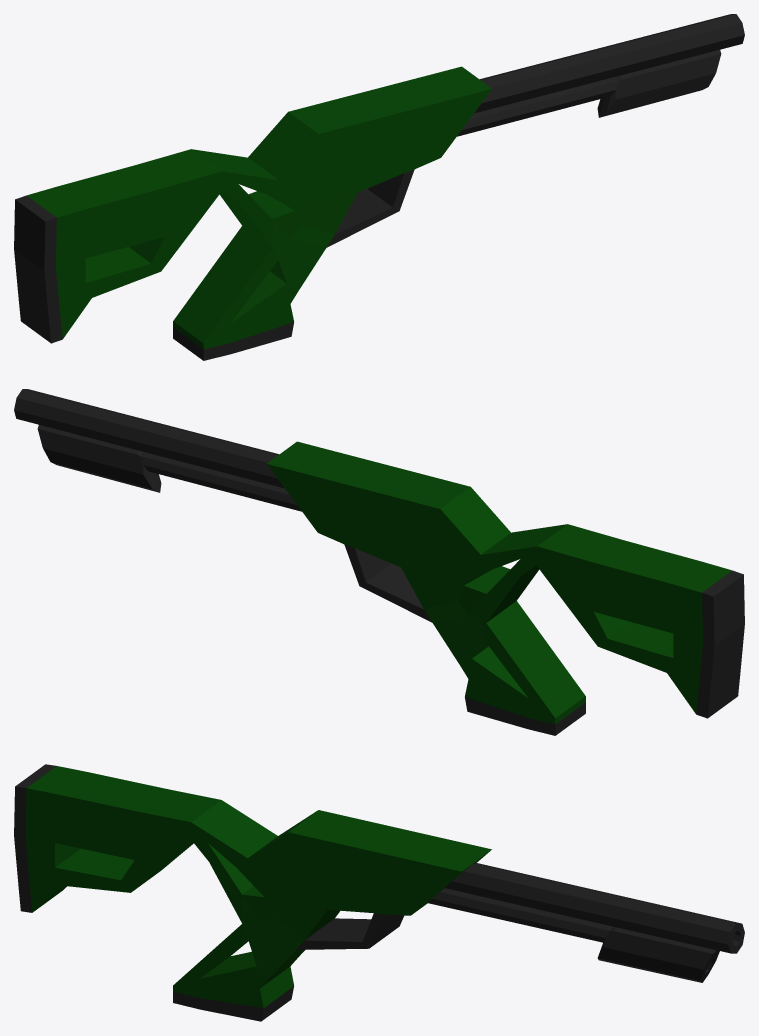
File: Blaster10.fbx
3 views of the same model, one above another, from view 1: azimuth 30°, elevation 25°; view 2: azimuth 150°, elevation 25°; view 3: azimuth 330°, elevation 25° (orthographic).
Visible parts, largest first — view 1: pCube19, pPipe16, pPipe15; view 2: pCube19, pPipe16, pPipe15; view 3: pCube19, pPipe16, pPipe15.
Part boxes in pixels (left/top/right/bottom): pCube19: left=14, top=66, right=491, bottom=360; pPipe16: left=474, top=14, right=744, bottom=113; pPipe15: left=457, top=50, right=721, bottom=136; pCube19: left=267, top=441, right=744, bottom=735; pPipe16: left=14, top=389, right=284, bottom=488; pPipe15: left=37, top=425, right=301, bottom=511; pCube19: left=14, top=764, right=491, bottom=1021; pPipe16: left=445, top=862, right=744, bottom=953; pPipe15: left=427, top=888, right=719, bottom=982.
Size of the model in its own units: 6.42 by 1.75 by 0.4782.
